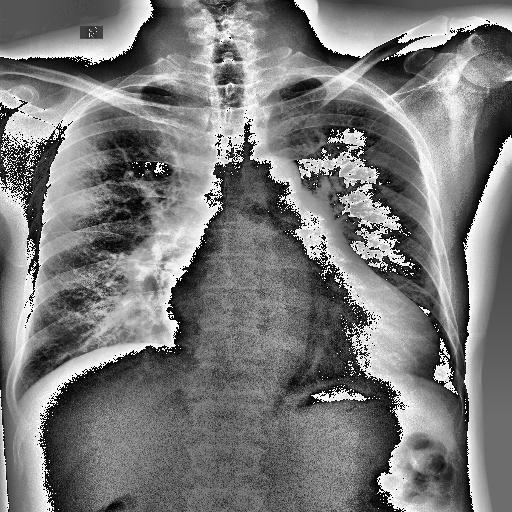3- Cardiomegaly: (161, 270, 439, 396), (157, 270, 441, 382), (162, 292, 438, 379)
9- Other lesion: (300, 192, 350, 254)
